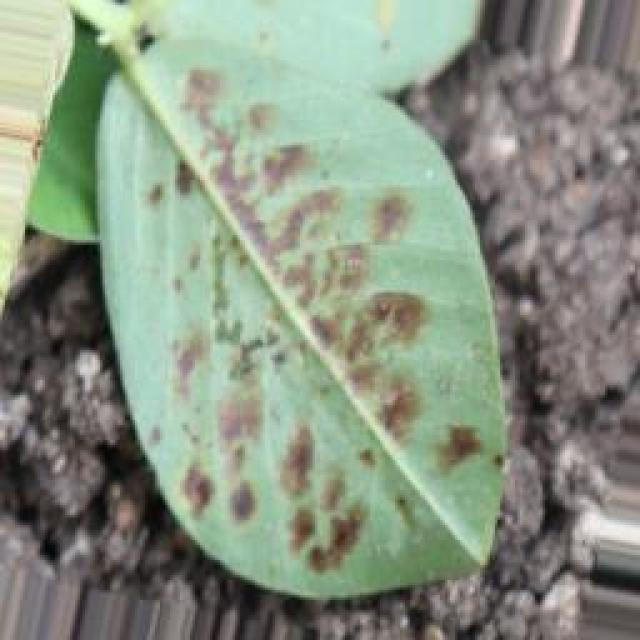Whitefly: (20, 0, 508, 640)
